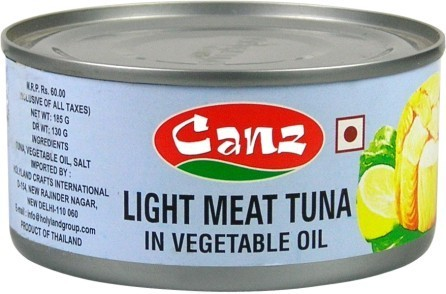nonveg_red: (334, 114, 365, 153)
